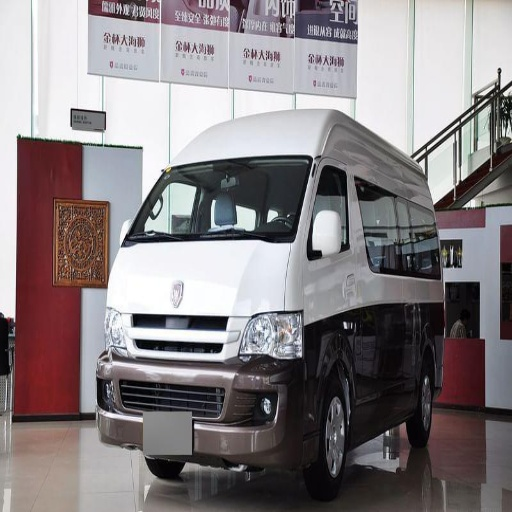front_bumper: (96, 311, 325, 479)
front_glass: (124, 160, 308, 246)
front_left_door: (305, 154, 351, 289), (357, 327, 390, 378)
